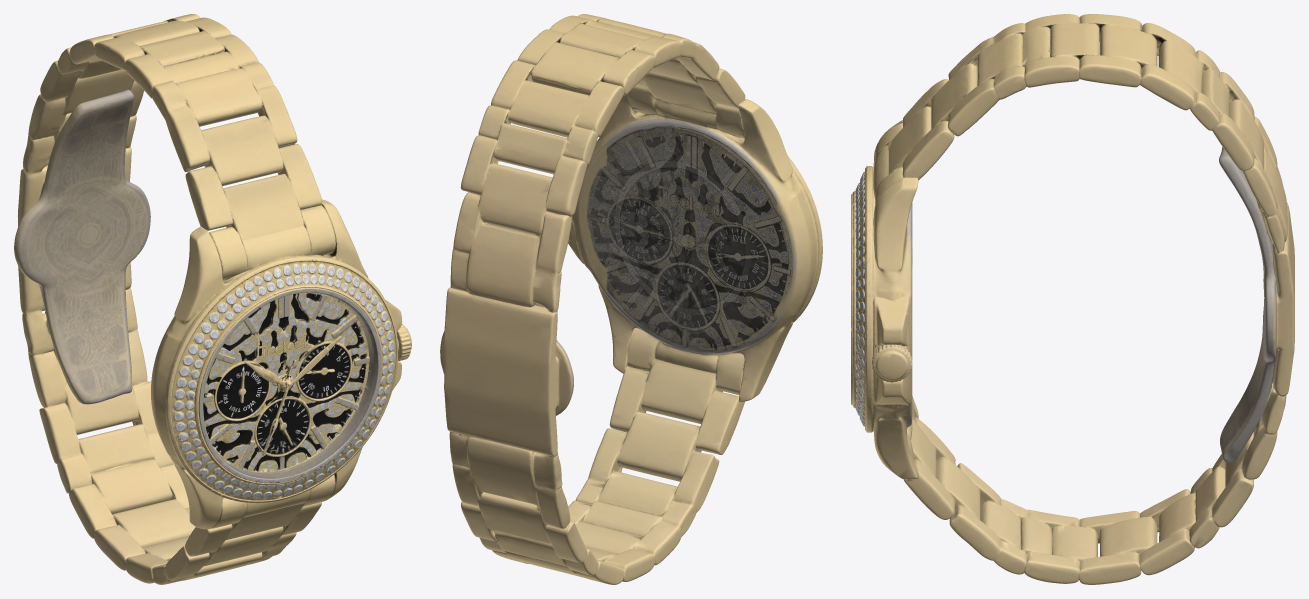
File: freelook-watch.glb
The picture shows the model from 3 angles, left to right: view 1: azimuth 30°, elevation 25°; view 2: azimuth 150°, elevation 25°; view 3: azimuth 270°, elevation 25°; orthographic projection.
Bounding box in the file's own units: 0.9636 × 1.9 × 1.46.
Materials: 1 (1 with a texture image).
